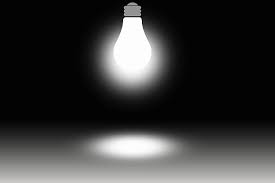bulb: (107, 11, 156, 78)
